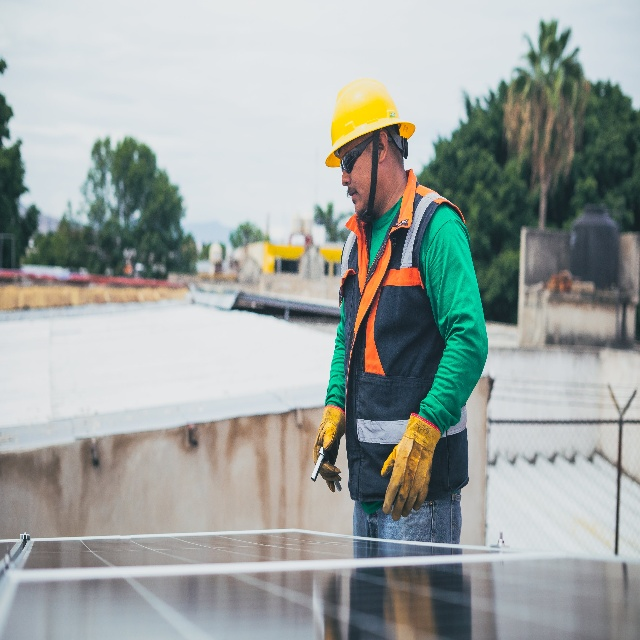Gafas: (338, 146, 359, 170)
Guantes: (380, 408, 442, 519), (313, 404, 344, 491)
